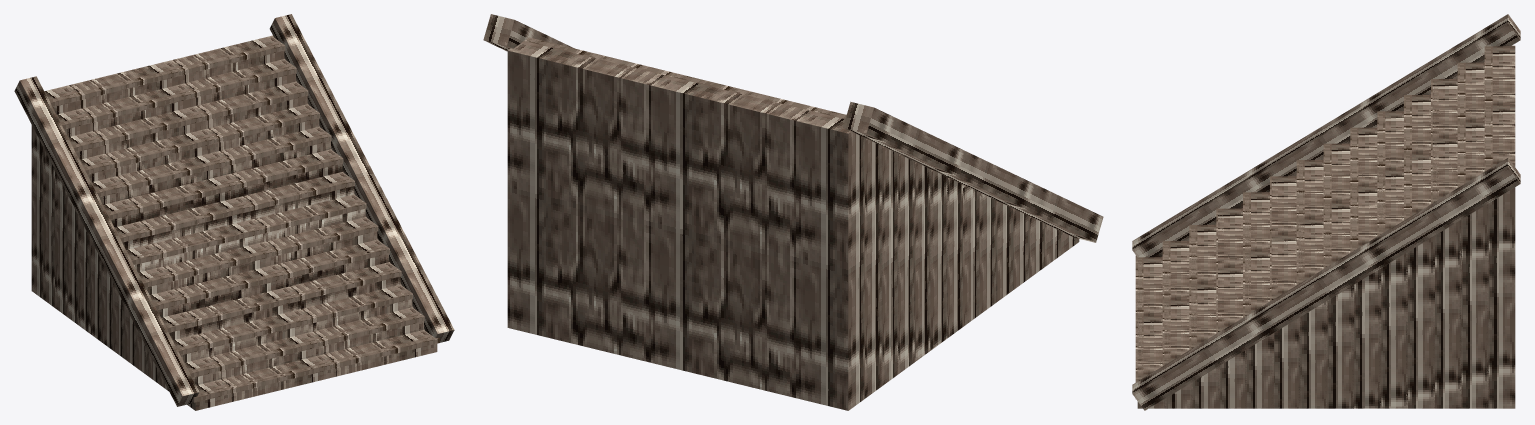
The model's file is stairs.glb.
The picture shows the model from 3 angles, left to right: view 1: azimuth 30°, elevation 25°; view 2: azimuth 150°, elevation 25°; view 3: azimuth 270°, elevation 25°; orthographic projection. The views are drawn at different scales.
Visible parts, largest first — view 1: stairs_p9_stone, stairs_p9_paving; view 2: stairs_p9_stone, stairs_p9_paving; view 3: stairs_p9_stone, stairs_p9_paving.
Boxes of the visible parts, bbox=[...] form: stairs_p9_stone: bbox=[14, 14, 454, 410]; stairs_p9_paving: bbox=[49, 43, 439, 402]; stairs_p9_stone: bbox=[483, 14, 1103, 410]; stairs_p9_paving: bbox=[524, 37, 846, 118]; stairs_p9_stone: bbox=[1132, 14, 1520, 410]; stairs_p9_paving: bbox=[1135, 46, 1492, 382].
Bounding box in the file's own units: 4.05 × 3.08 × 4.34.
Materials: 2 (2 with a texture image).
